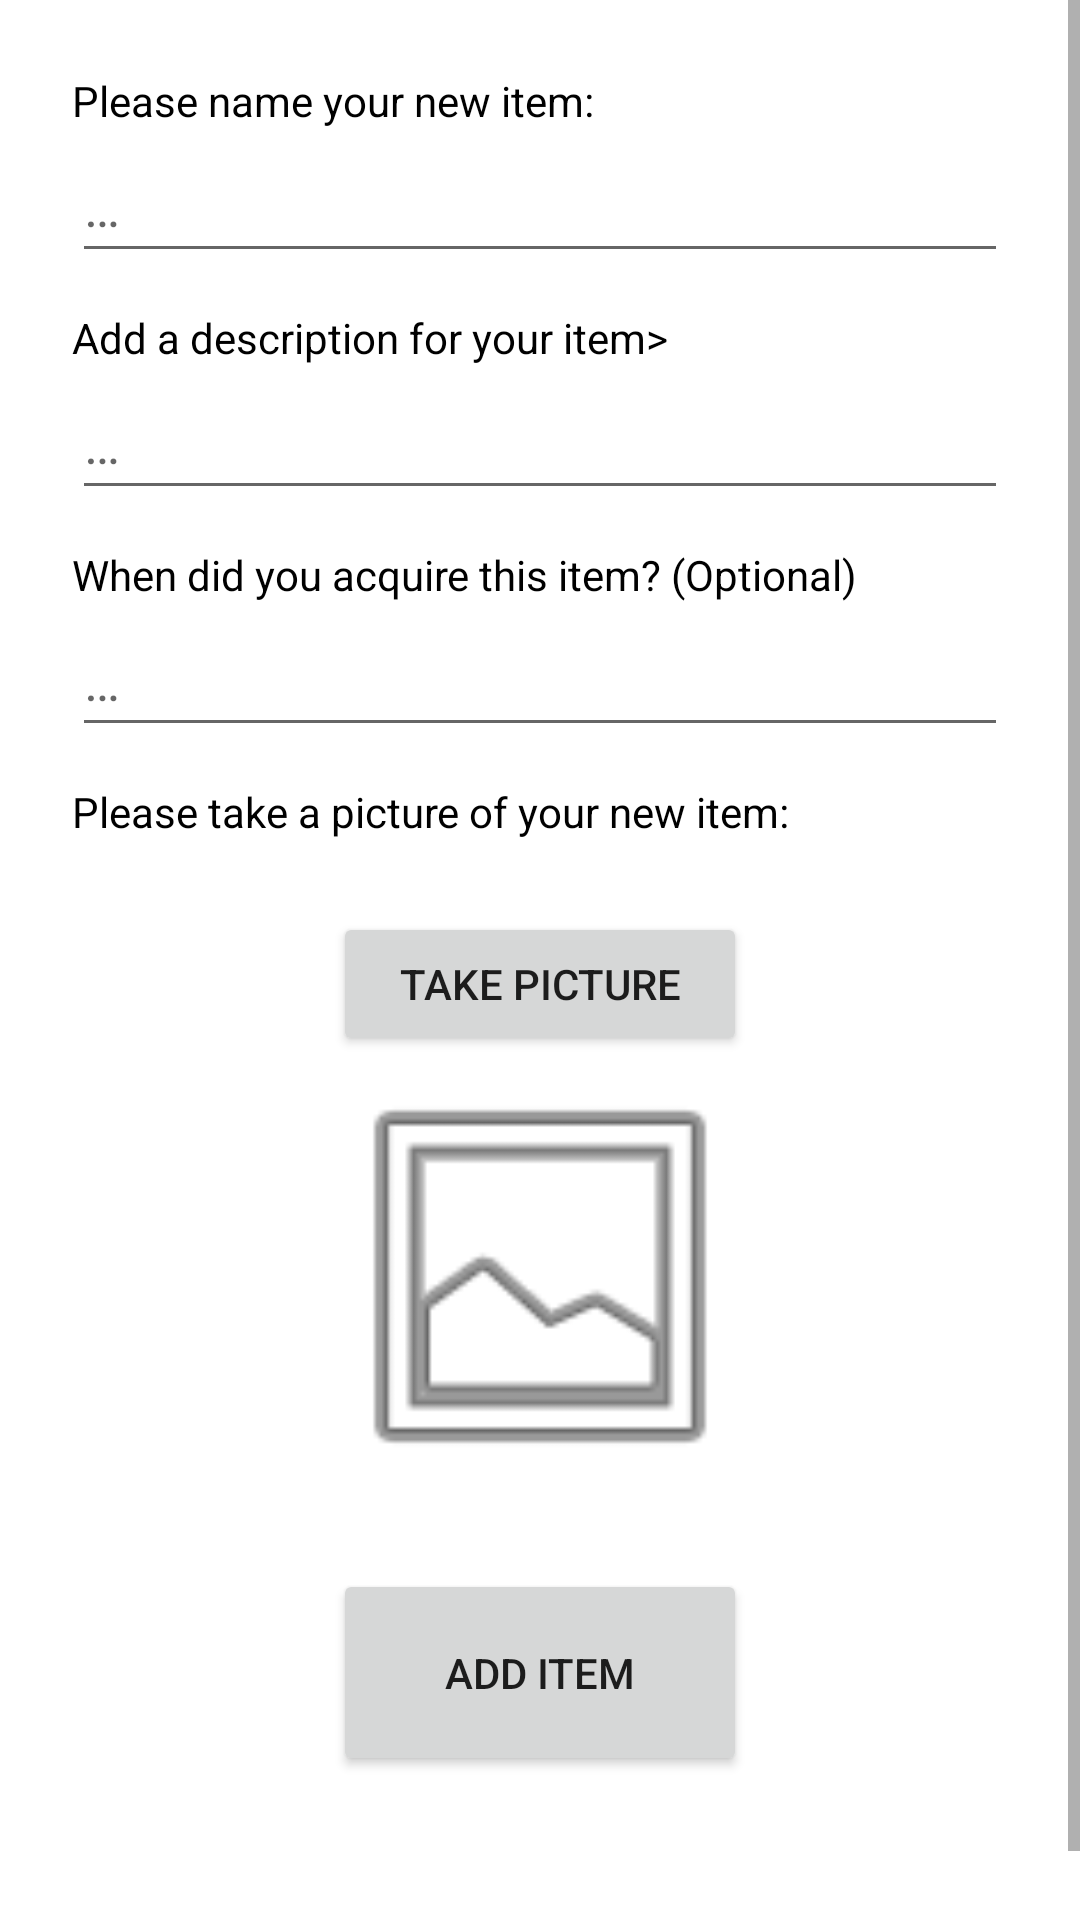

Icon bounding boxes for this 1080×1920 phone screenshot, format (x1, y1, x2, y2):
gallery: (374, 1110, 706, 1443)
